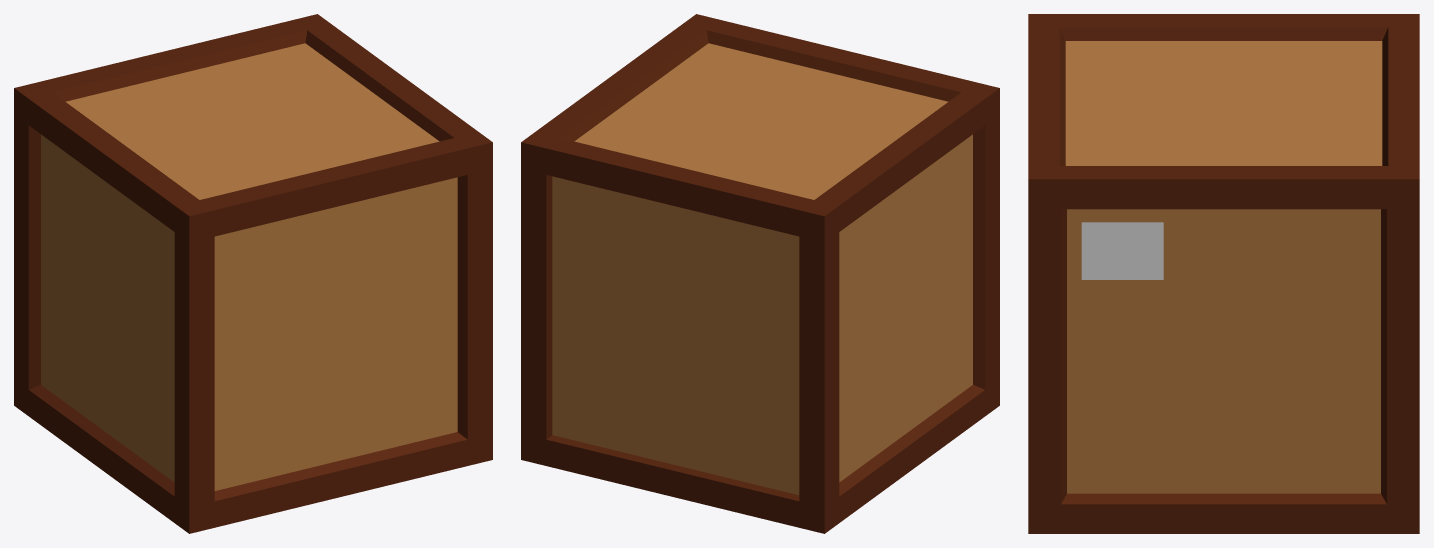
The model's file is Create.fbx.
3 views of the same model, side by side, from view 1: azimuth 30°, elevation 25°; view 2: azimuth 150°, elevation 25°; view 3: azimuth 270°, elevation 25° (orthographic). The views are drawn at different scales.
Visible parts, largest first — view 1: Cube; view 2: Cube; view 3: Cube.
Boxes of the visible parts, box(x1,y1,x2,y2) form: Cube: box(14, 14, 492, 533); Cube: box(521, 14, 999, 533); Cube: box(1028, 14, 1419, 533).
Size of the model in its own units: 200 by 200 by 200.
